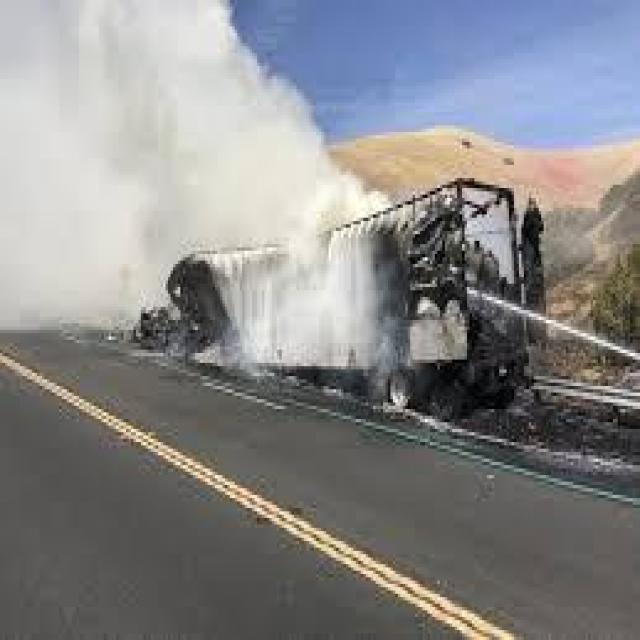smoke: (3, 2, 369, 335)
